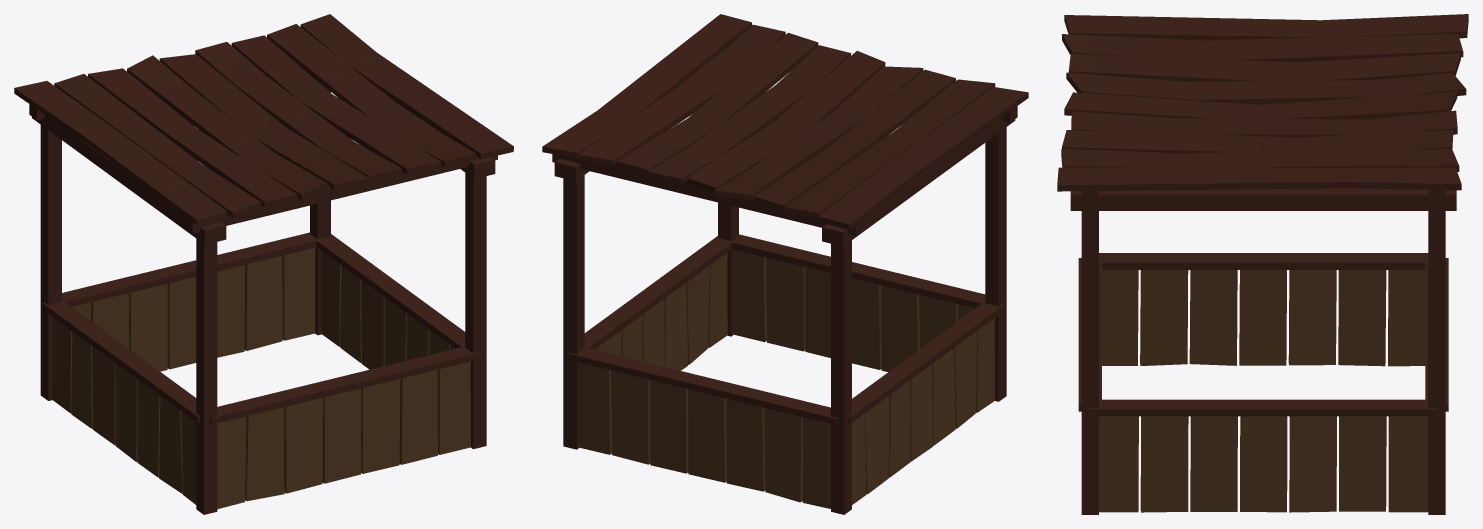
Rendered from roof_building_8.FBX.
The picture shows the model from 3 angles, left to right: view 1: azimuth 30°, elevation 25°; view 2: azimuth 150°, elevation 25°; view 3: azimuth 270°, elevation 25°; orthographic projection. The views are drawn at different scales.
Parts seen in each view (by area): view 1: roof_building_8; view 2: roof_building_8; view 3: roof_building_8.
Part boxes in pixels (<box>): roof_building_8: <box>14,14,513,514</box>; roof_building_8: <box>542,14,1028,514</box>; roof_building_8: <box>1057,14,1468,514</box>.
Bounding box in the file's own units: 351 × 324 × 356.
